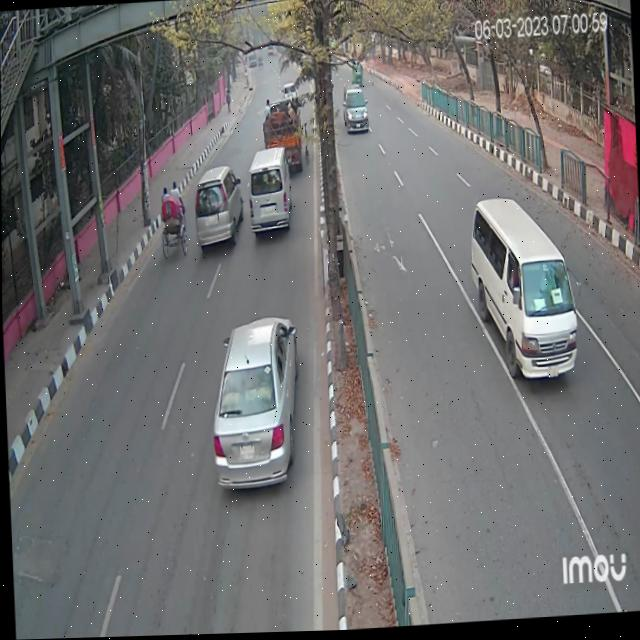rikshaw: (155, 176, 193, 255)
